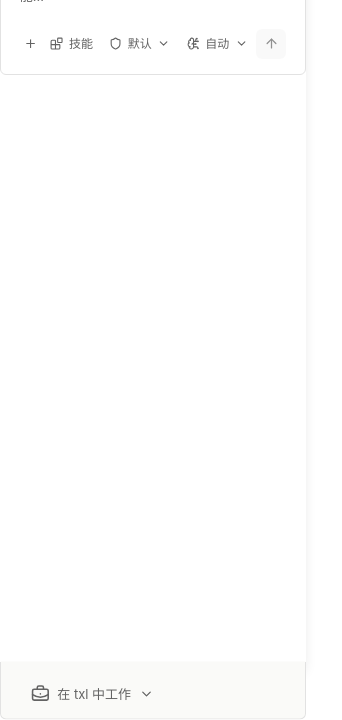
Test case: HomeTaskComposerCard › choose different folder from dropdown opens picker and stores it as most recent
(page scrolled)
Press the mouse on the button with aria-label "选择工作目录" at [92, 694], box x1=20 y1=677 x2=165 y2=711
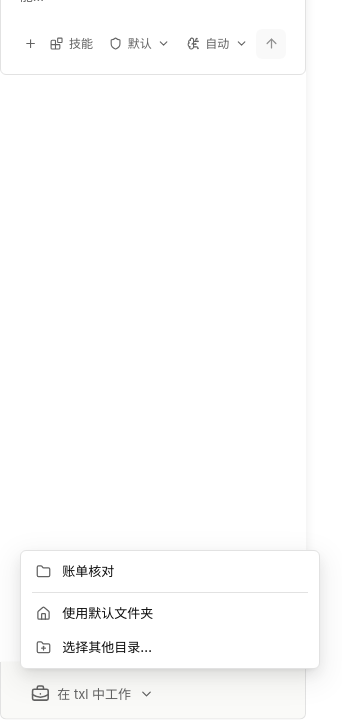
Click the menu item "选择其他目录…".
click(94, 647)  # box x1=36 y1=639 x2=152 y2=655
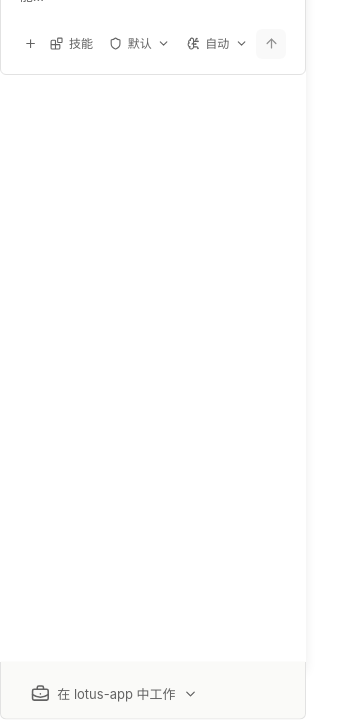
Now the text "在 lotus-app 中工作" is shown, box x1=57 y1=684 x2=176 y2=703
